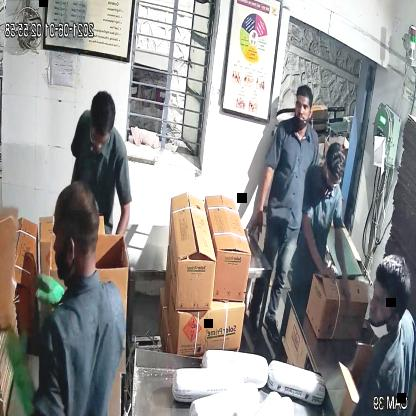goggles: (324, 168, 344, 190)
